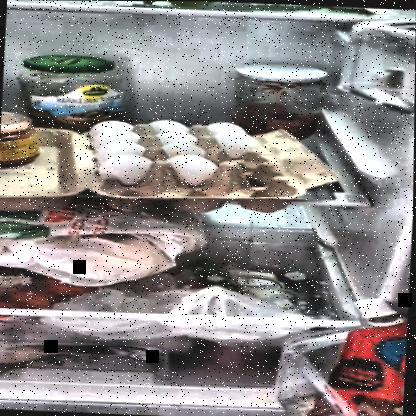eggs: (95, 121, 263, 189)
green_chillies: (154, 1, 399, 18)
